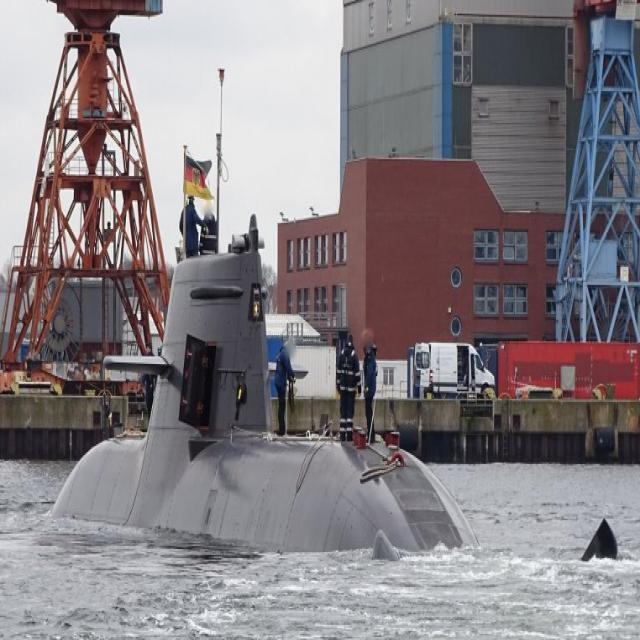submarine: (30, 254, 625, 562)
